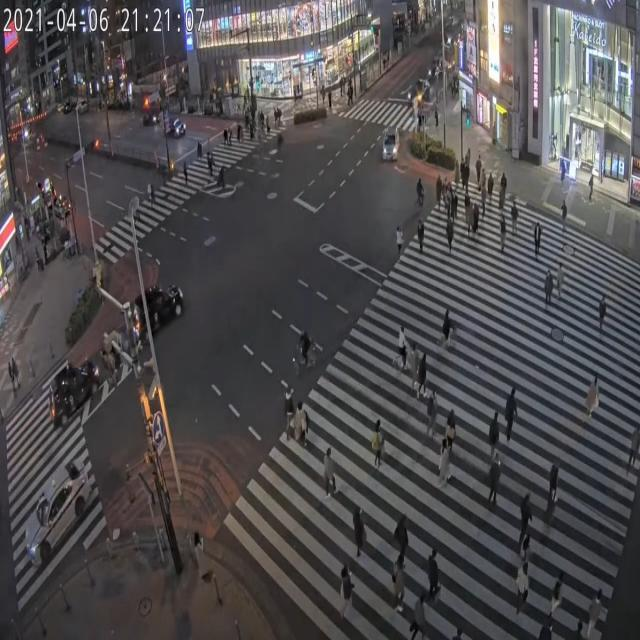bicycle: (290, 321, 328, 376), (394, 316, 410, 380), (414, 176, 431, 213)
humans: (316, 444, 341, 504), (486, 446, 504, 518), (350, 496, 370, 557), (432, 437, 454, 492), (394, 511, 415, 568), (386, 552, 408, 606), (277, 386, 297, 440), (485, 401, 502, 461), (336, 560, 357, 608), (390, 209, 407, 267), (554, 190, 572, 238), (520, 485, 533, 551), (446, 399, 465, 444), (428, 547, 445, 597), (588, 580, 602, 640), (372, 414, 386, 473), (586, 371, 600, 428), (546, 582, 567, 618), (412, 593, 428, 640), (299, 394, 313, 446), (441, 309, 455, 357), (518, 550, 530, 606), (409, 341, 420, 399), (629, 418, 639, 478), (416, 212, 426, 271), (442, 213, 456, 255), (530, 216, 544, 258), (427, 391, 438, 441), (507, 382, 516, 442), (598, 287, 608, 338), (497, 216, 507, 267), (462, 195, 473, 239), (547, 465, 559, 505), (538, 614, 556, 640), (544, 267, 554, 313), (556, 258, 566, 303), (434, 172, 444, 211), (472, 153, 484, 185), (479, 182, 488, 222), (499, 168, 507, 212), (511, 203, 521, 237), (421, 352, 430, 389), (463, 158, 472, 193), (488, 173, 496, 212), (453, 158, 461, 189), (453, 192, 459, 226), (443, 185, 450, 211), (474, 200, 479, 235), (465, 149, 471, 175)
